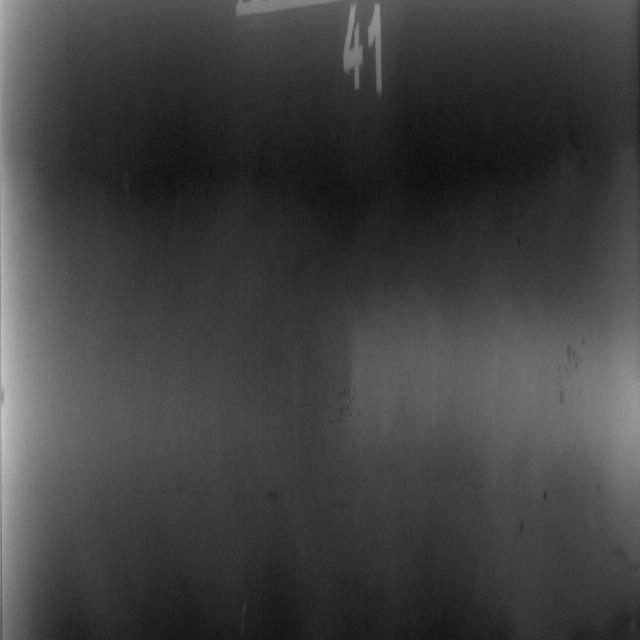FF: (604, 517, 640, 586)
FP: (8, 444, 332, 544)
IE: (550, 309, 588, 421), (332, 321, 367, 437), (390, 343, 420, 452)
PO: (517, 508, 527, 546), (542, 482, 550, 512)
